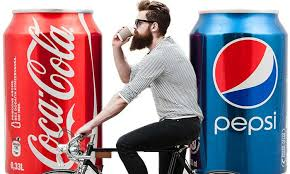coke-can: (2, 5, 103, 174)
pepsi-can: (191, 7, 288, 174)
